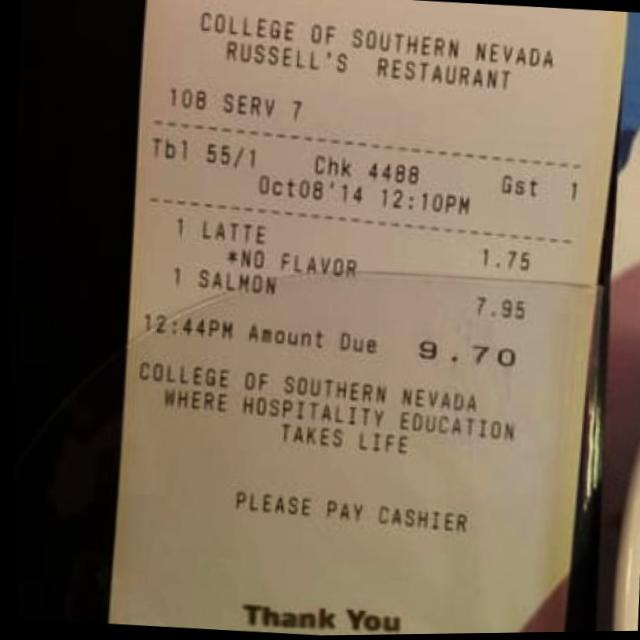Paper: (88, 0, 640, 639)
